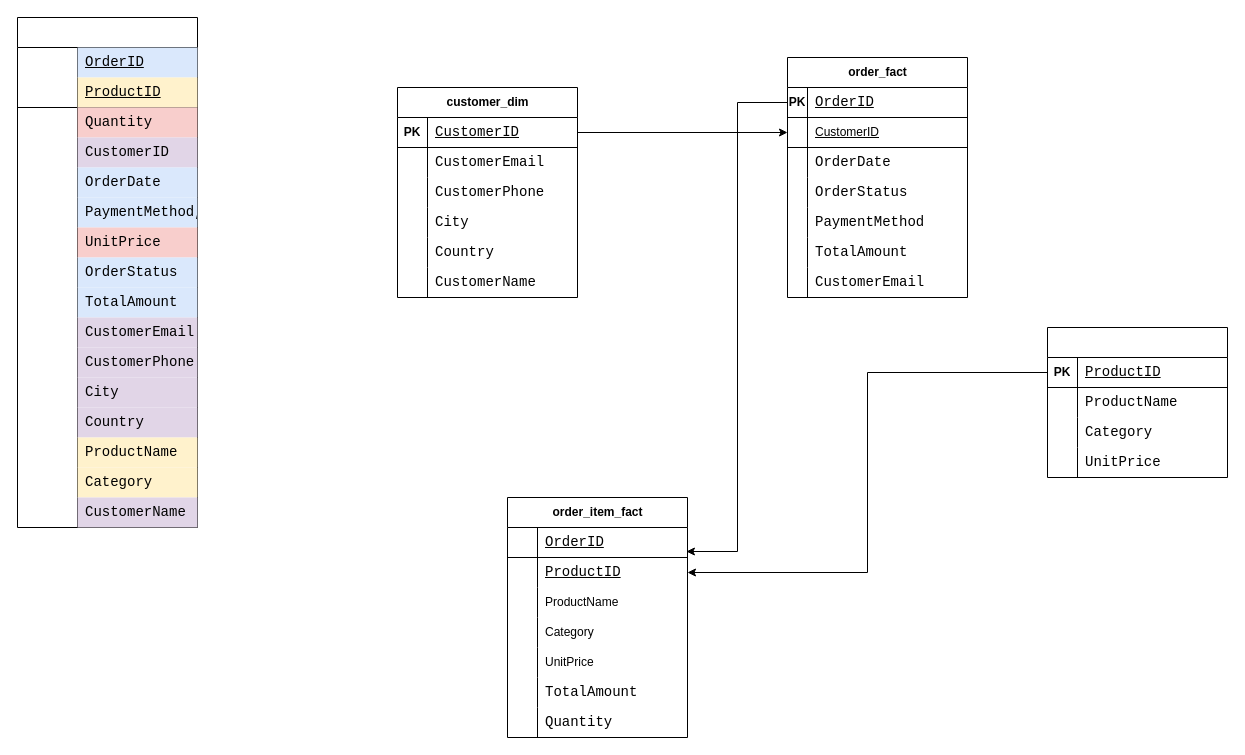
The diagram is 1245 pixels wide and 755 high, and some of its shapes have lost their labels. The box of each missing label's shape, as (x1, y1, x2, y2) in pixels:
product_dim: (1046, 326, 1228, 478)
Table: (16, 16, 198, 528)
